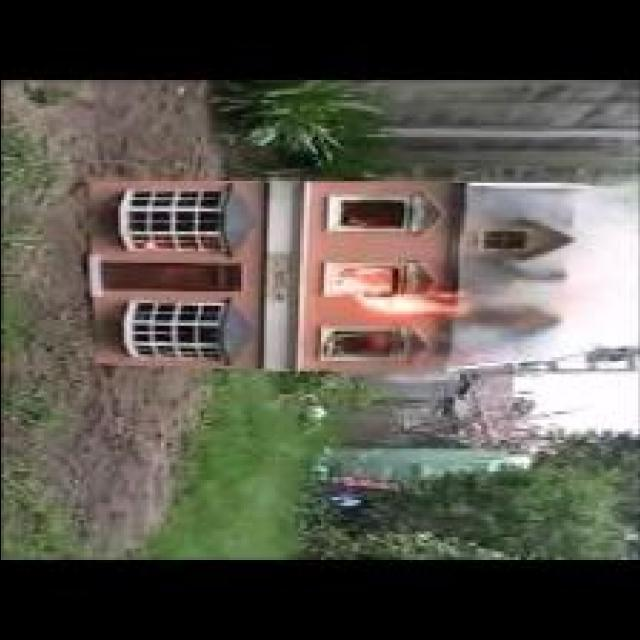Fire: (338, 270, 464, 313)
